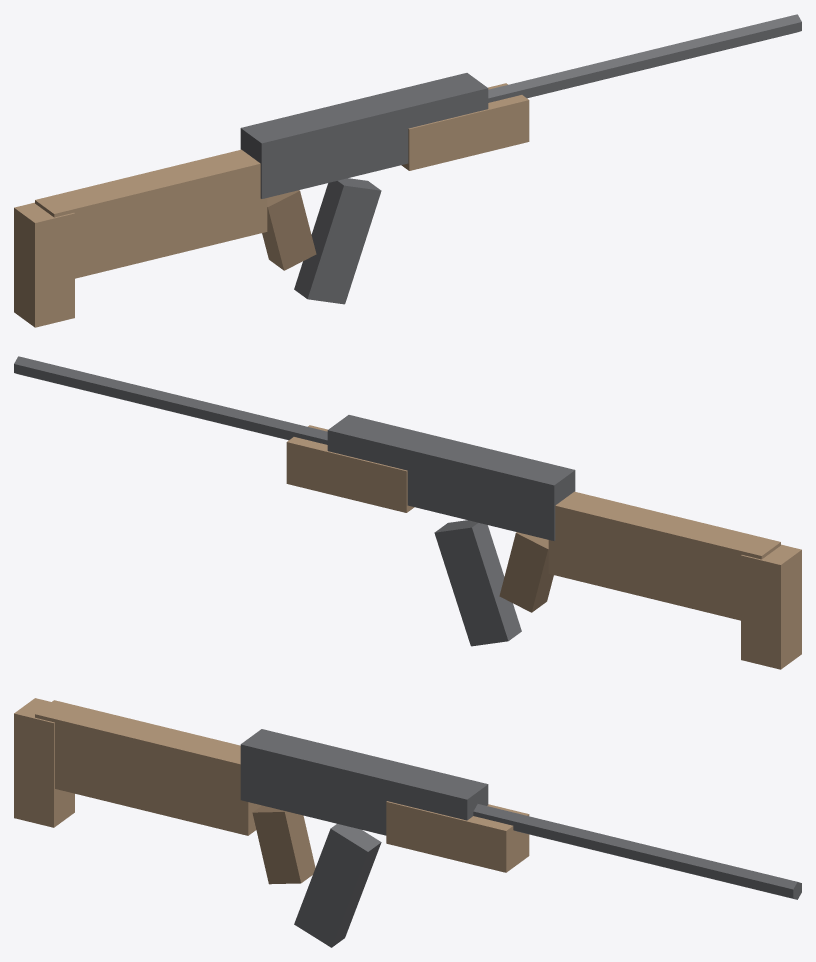
File: held_weapon_ak.glb
3 renders of one model, top to bottom at view 1: azimuth 30°, elevation 25°; view 2: azimuth 150°, elevation 25°; view 3: azimuth 330°, elevation 25°, orthographic.
Visible parts, largest first — view 1: held_weapon_ak; view 2: held_weapon_ak; view 3: held_weapon_ak.
Part boxes in pixels (x1=…): held_weapon_ak: x1=14, y1=14, x2=801, y2=327; held_weapon_ak: x1=14, y1=356, x2=801, y2=669; held_weapon_ak: x1=14, y1=698, x2=801, y2=947.
Bounding box in the file's own units: 1.16 × 0.2654 × 0.06.
